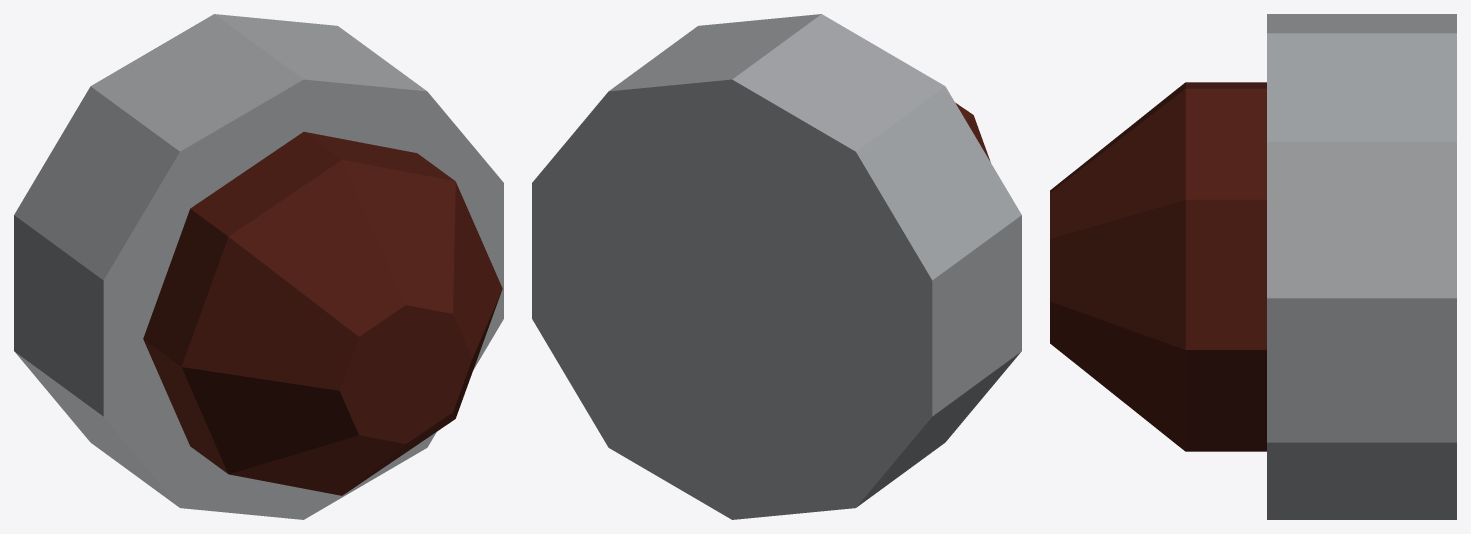
Rendered from switch.port-lamp.glb.
3 views of the same model, side by side, from view 1: azimuth 30°, elevation 25°; view 2: azimuth 150°, elevation 25°; view 3: azimuth 270°, elevation 25° (orthographic). The views are drawn at different scales.
Visible parts, largest first — view 1: bezel, lens-jewel, lens-base; view 2: bezel; view 3: bezel, lens-jewel, lens-base.
Boxes of the visible parts, <box> form: bezel: <box>14,14,503,519</box>; lens-jewel: <box>181,160,502,495</box>; lens-base: <box>143,131,455,473</box>; bezel: <box>532,14,1021,519</box>; bezel: <box>1267,14,1456,519</box>; lens-jewel: <box>1050,82,1185,451</box>; lens-base: <box>1185,82,1266,451</box>.
Bounding box in the file's own units: 0.0361 × 0.038 × 0.03.
